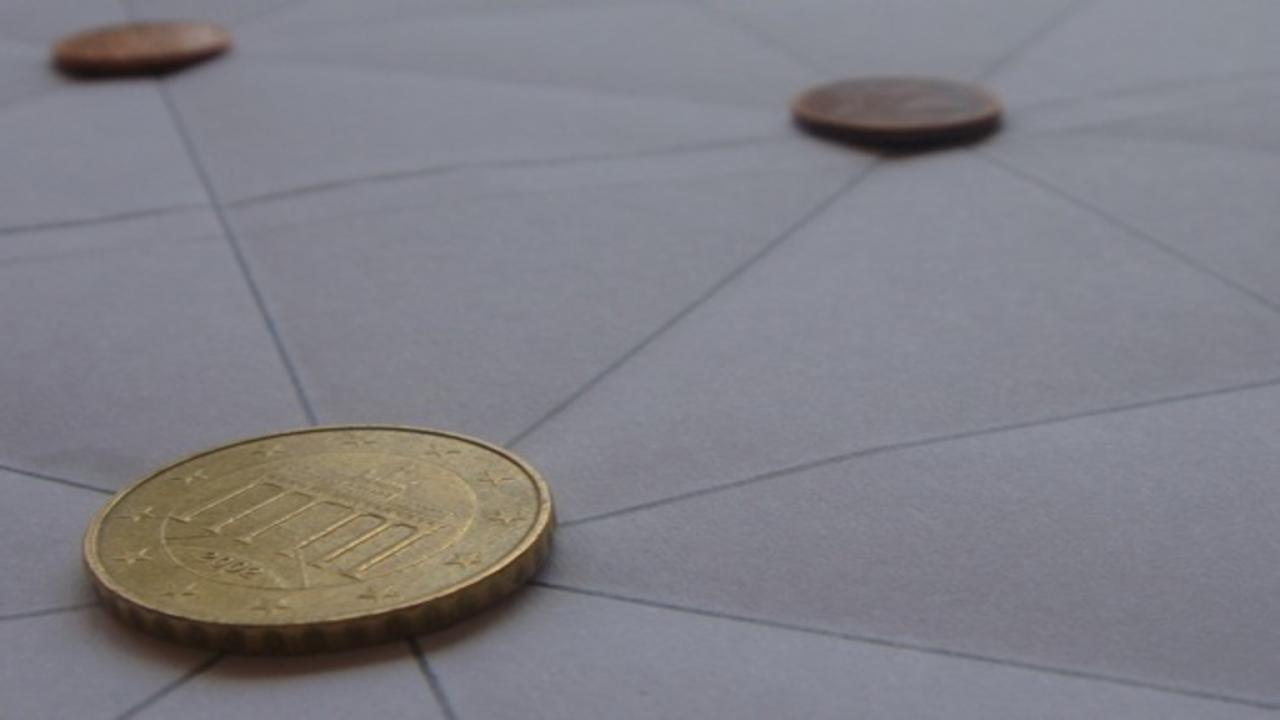coin: (80, 423, 564, 657), (782, 72, 1002, 152), (49, 15, 235, 80)
